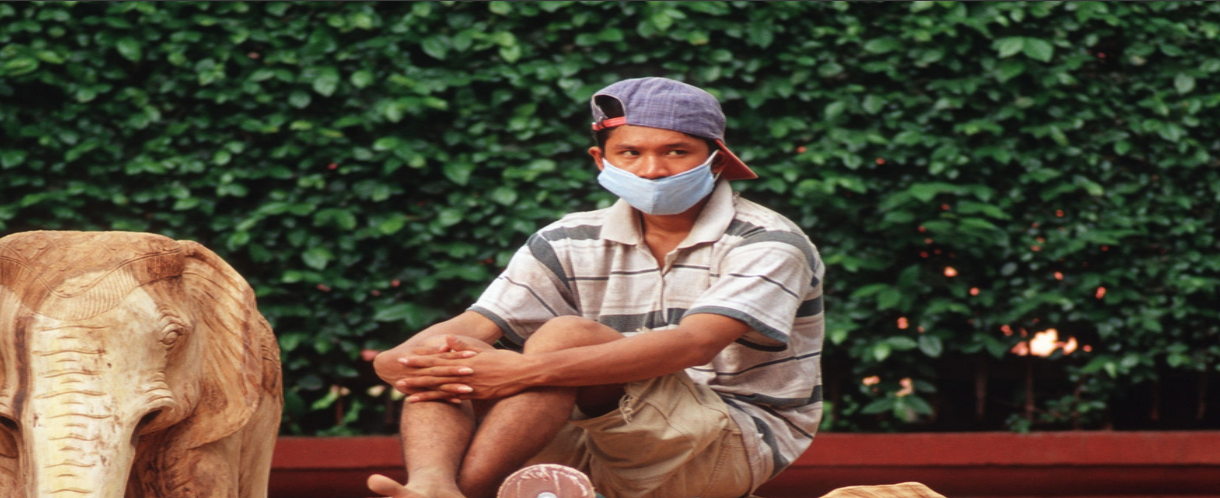mask_weared_incorrect: (581, 75, 748, 227)
